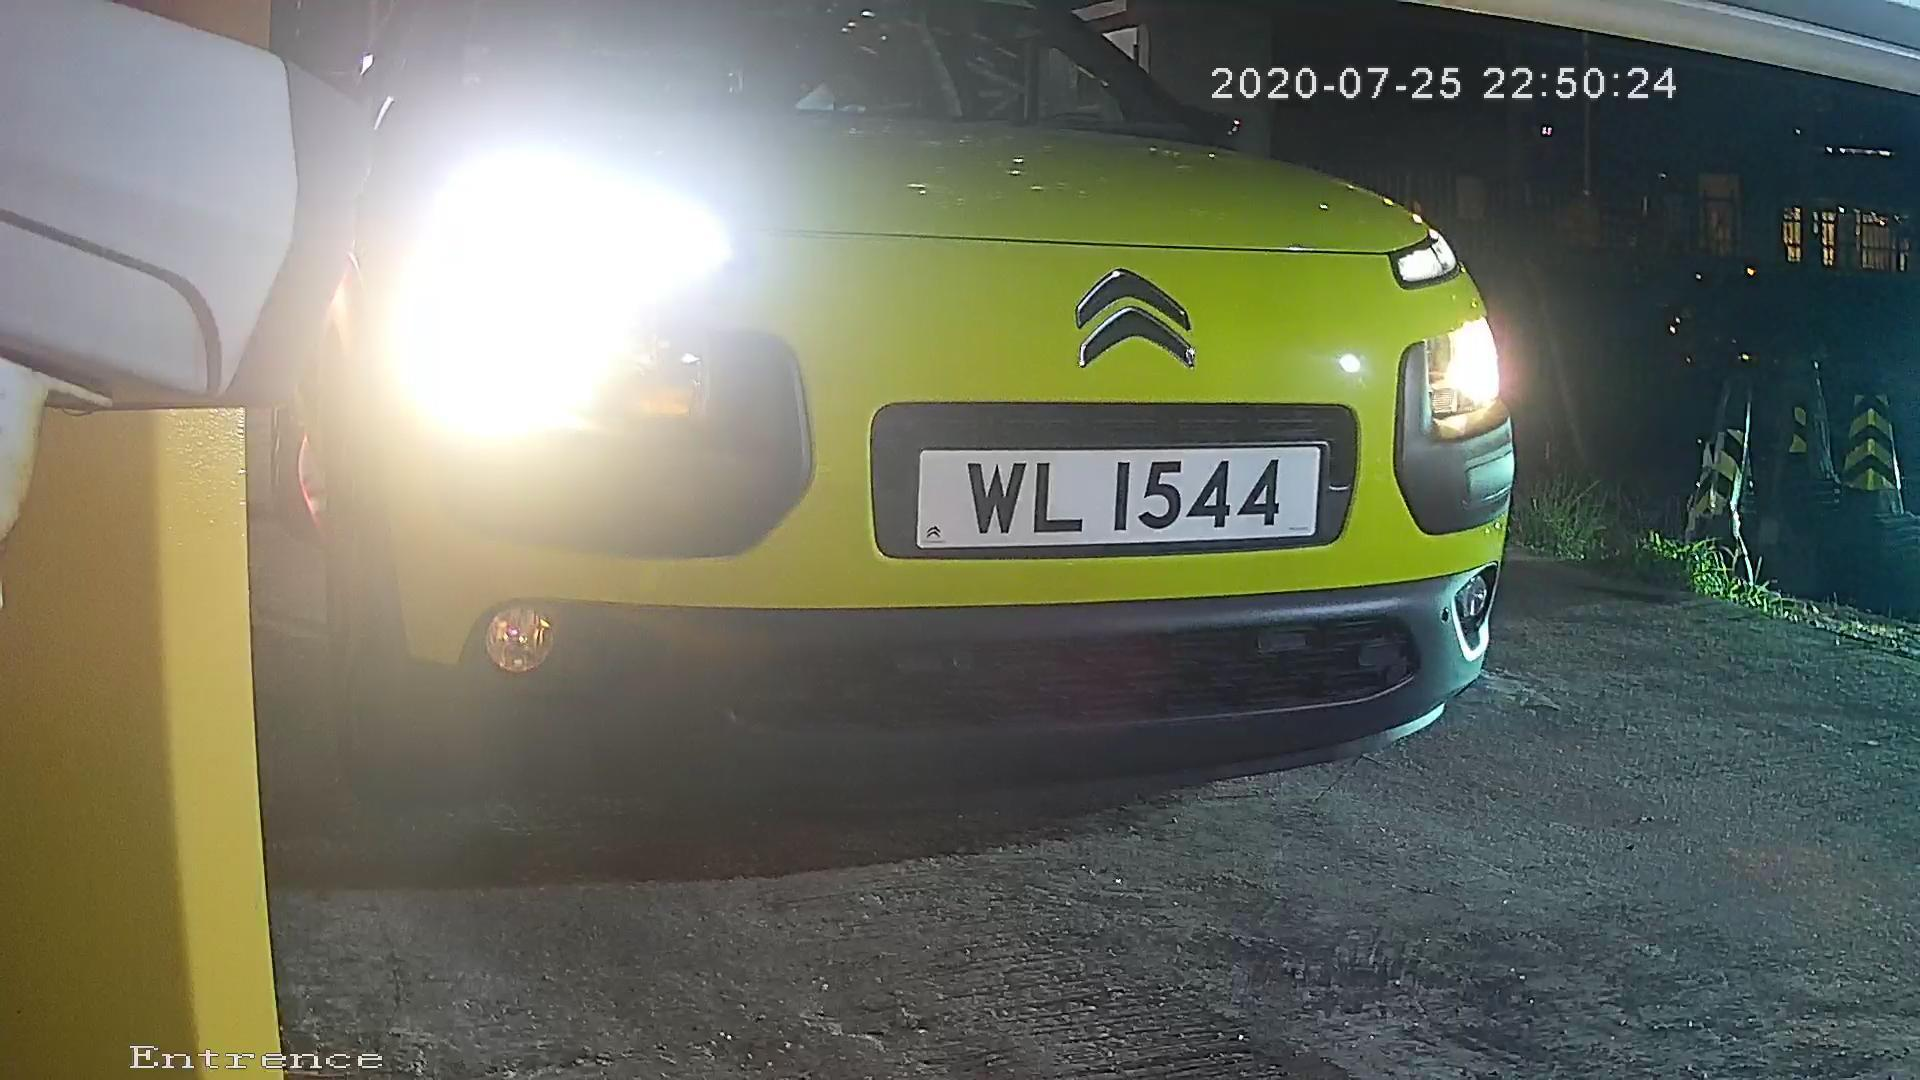privatecar: (195, 3, 1630, 916)
